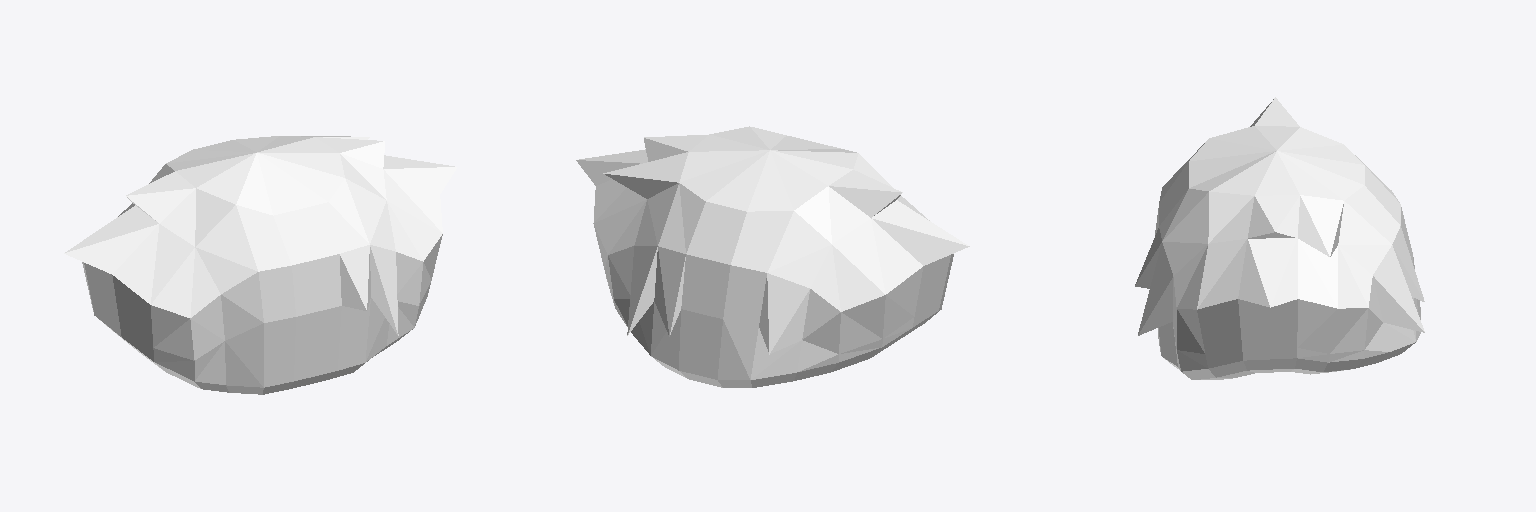
The model's file is UpTorso.obj.
3 views of the same model, side by side, from view 1: azimuth 30°, elevation 25°; view 2: azimuth 150°, elevation 25°; view 3: azimuth 270°, elevation 25° (orthographic).
Parts seen in each view (by area): view 1: Uppertorso1; view 2: Uppertorso1; view 3: Uppertorso1.
Boxes of the visible parts, <box> form: Uppertorso1: <box>64,136,456,394</box>; Uppertorso1: <box>576,126,969,387</box>; Uppertorso1: <box>1135,97,1424,379</box>.
Size of the model in its own units: 5.36 by 2.72 by 3.42.